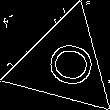O_W: (33, 36, 94, 91)
